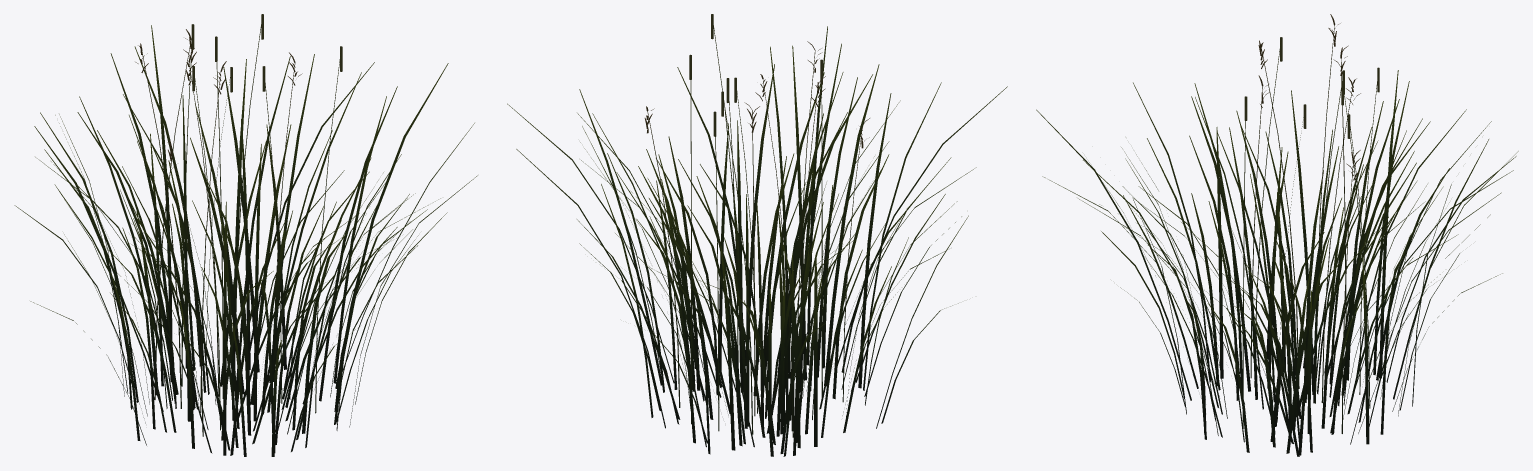
The model's file is SM_Grass_B.fbx.
3 views of the same model, side by side, from view 1: azimuth 30°, elevation 25°; view 2: azimuth 150°, elevation 25°; view 3: azimuth 270°, elevation 25° (orthographic). The views are drawn at different scales.
Parts seen in each view (by area): view 1: SM_Grass_B; view 2: SM_Grass_B; view 3: SM_Grass_B.
Part boxes in pixels (x1=…): SM_Grass_B: x1=14, y1=14, x2=477, y2=456; SM_Grass_B: x1=507, y1=14, x2=1007, y2=456; SM_Grass_B: x1=1036, y1=14, x2=1518, y2=456.
Size of the model in its own units: 124 by 120 by 98.13.
